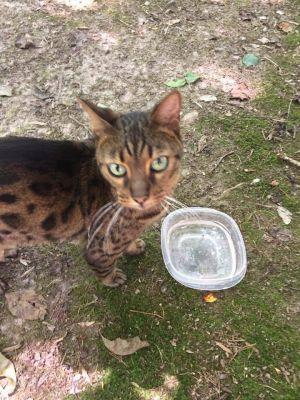bengal: (75, 88, 192, 221)
